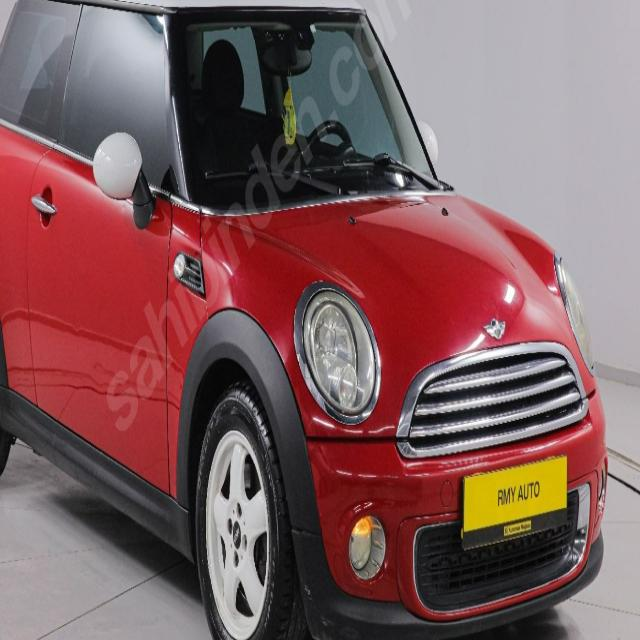mini: (474, 315, 516, 340)
